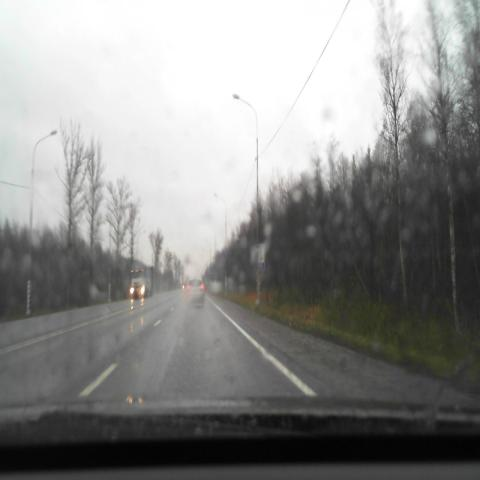7_11: (255, 244, 265, 270)
